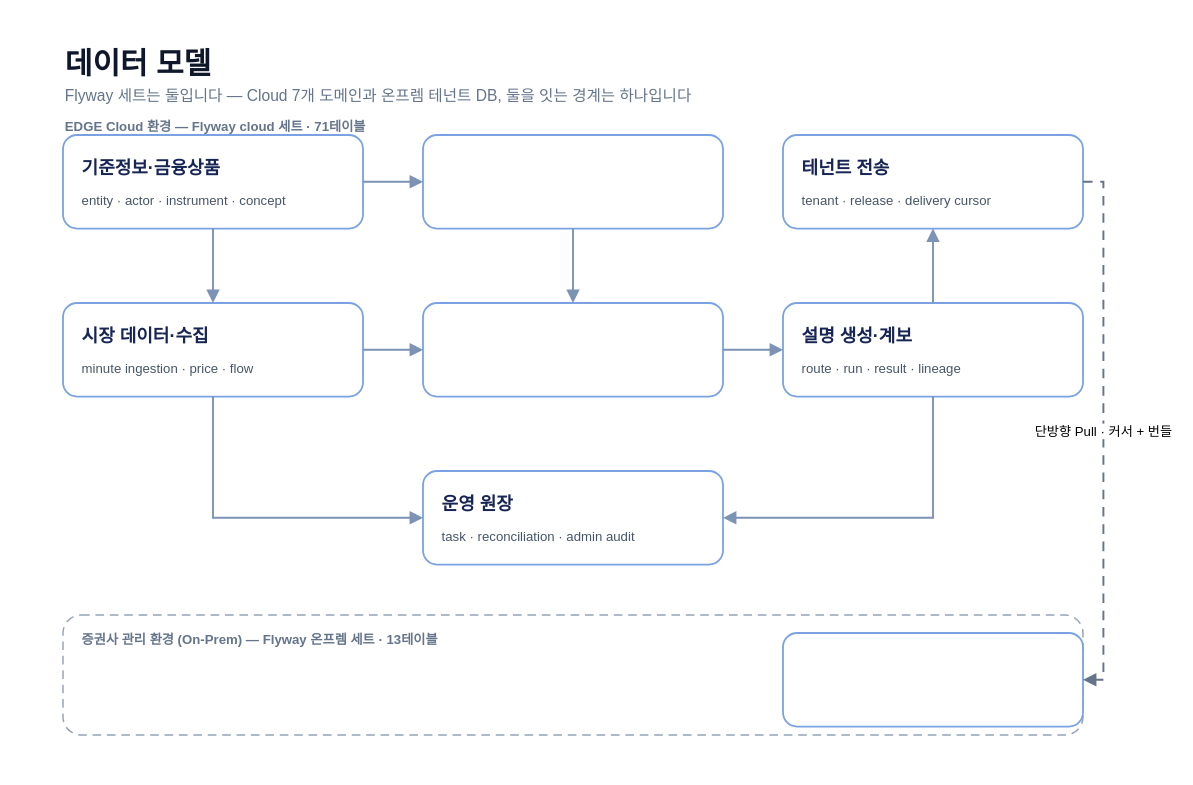
This 1193x785 diagram has some shape labels left out. The shapes that lost their labels are listed below. From the top down, each one's box as (x1, y1, x2, y2) in pixels, then its label:
(422, 134, 723, 229): 문서·공시 사실 document · assertion · disclosure_fact
(422, 302, 723, 397): 이벤트·근거 source_event · evidence · thread
(782, 632, 1083, 727): 온프렘 테넌트 DB analysis_item · review · publication
